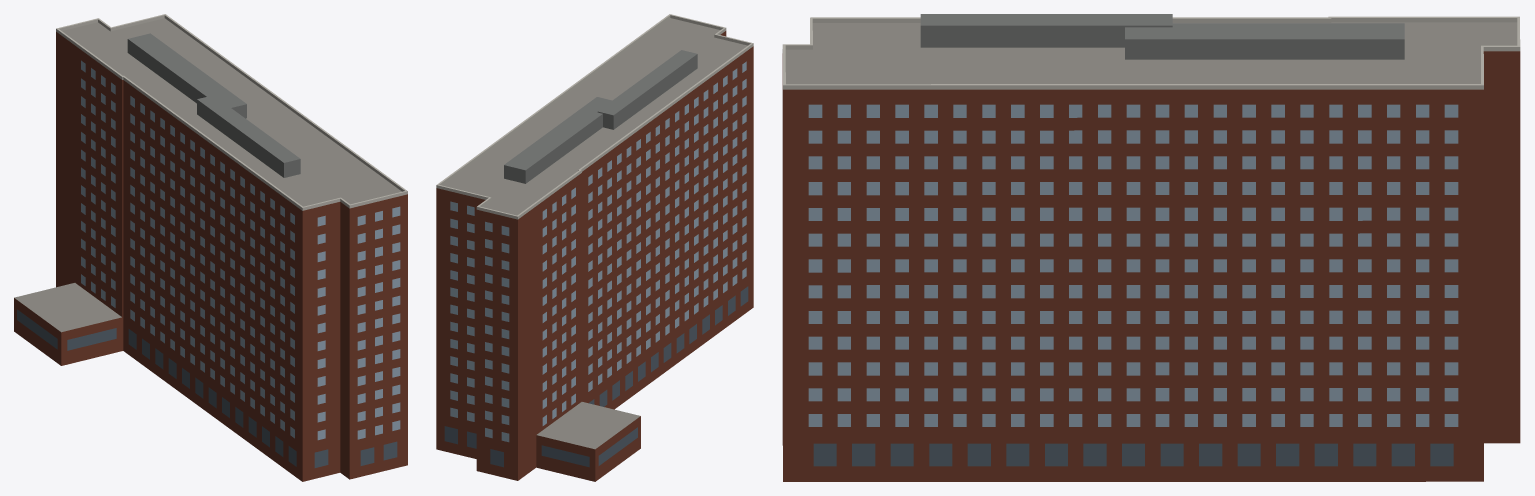
Rendered from parris-towers.glb.
3 views of the same model, side by side, from view 1: azimuth 30°, elevation 25°; view 2: azimuth 150°, elevation 25°; view 3: azimuth 270°, elevation 25° (orthographic). The views are drawn at different scales.
Visible parts, largest first — view 1: parris_towers; view 2: parris_towers; view 3: parris_towers.
Part boxes in pixels (x1,y1,x2,y2): parris_towers: [14, 14, 407, 481]; parris_towers: [436, 14, 753, 481]; parris_towers: [782, 14, 1520, 481].
Size of the model in its own units: 27.54 by 47.4 by 76.6.
